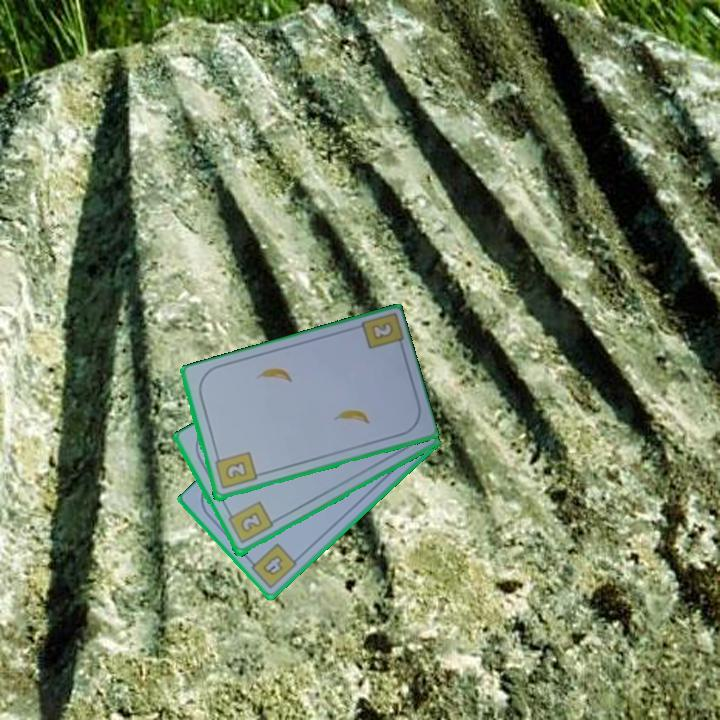2b: (224, 498, 276, 547), (211, 448, 259, 492), (370, 320, 394, 341)
4b: (244, 540, 300, 592)
